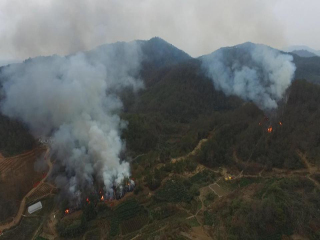smoke: (4, 8, 140, 198), (200, 22, 297, 114)
